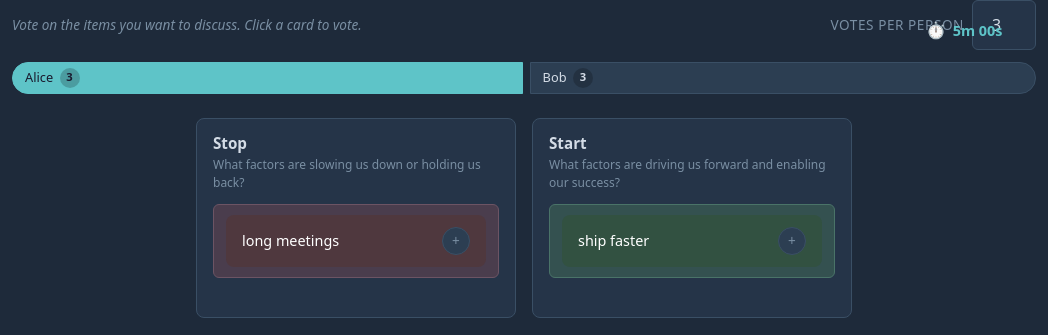
Test: VotePage › switching active voter updates remaining budget display
Click the button with aria-label "vote for ship faster". click: [614, 241]
box: top-left (562, 215), bottom-right (822, 267)
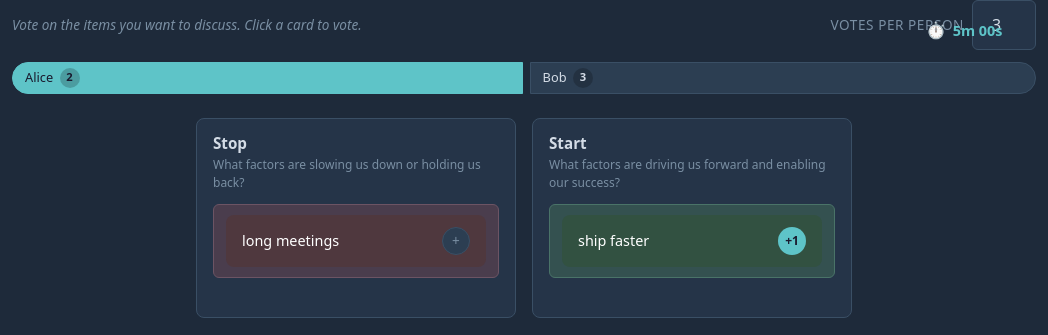
Expected: the button "Alice 2" is shown, top-left (12, 62), bottom-right (523, 94)
Click the button "Bob 3". click: [555, 77]
box: top-left (530, 62), bottom-right (1036, 94)
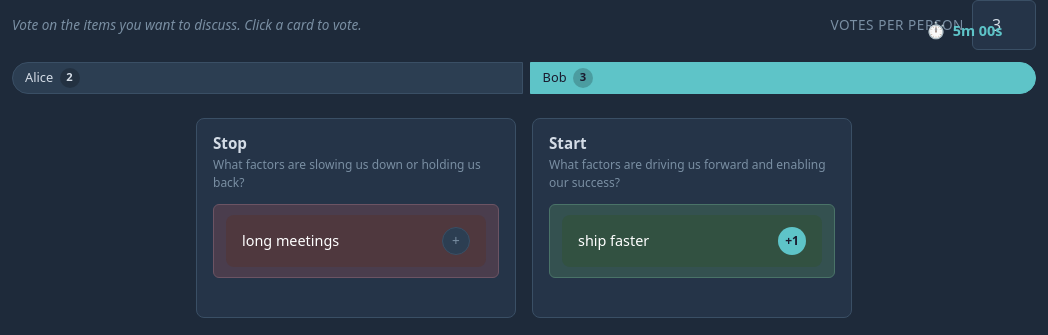
Click the button with aria-label "vote for ship faster". click: [614, 241]
box: top-left (562, 215), bottom-right (822, 267)
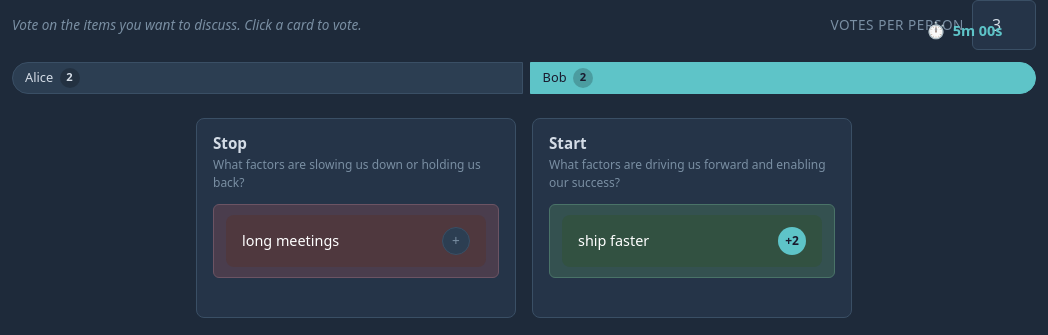
Expected: the text with test id "vote-count-c-1" reads "+2", top-left (778, 227), bottom-right (806, 255)
